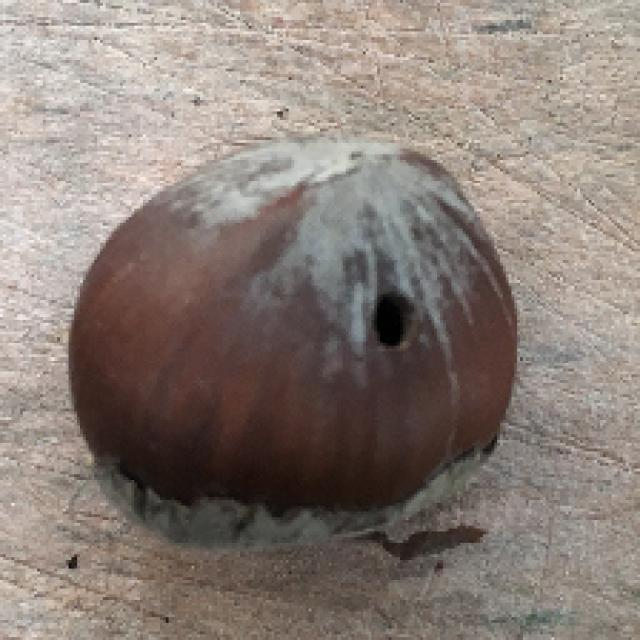damagedHazelnut: (70, 134, 532, 554)
